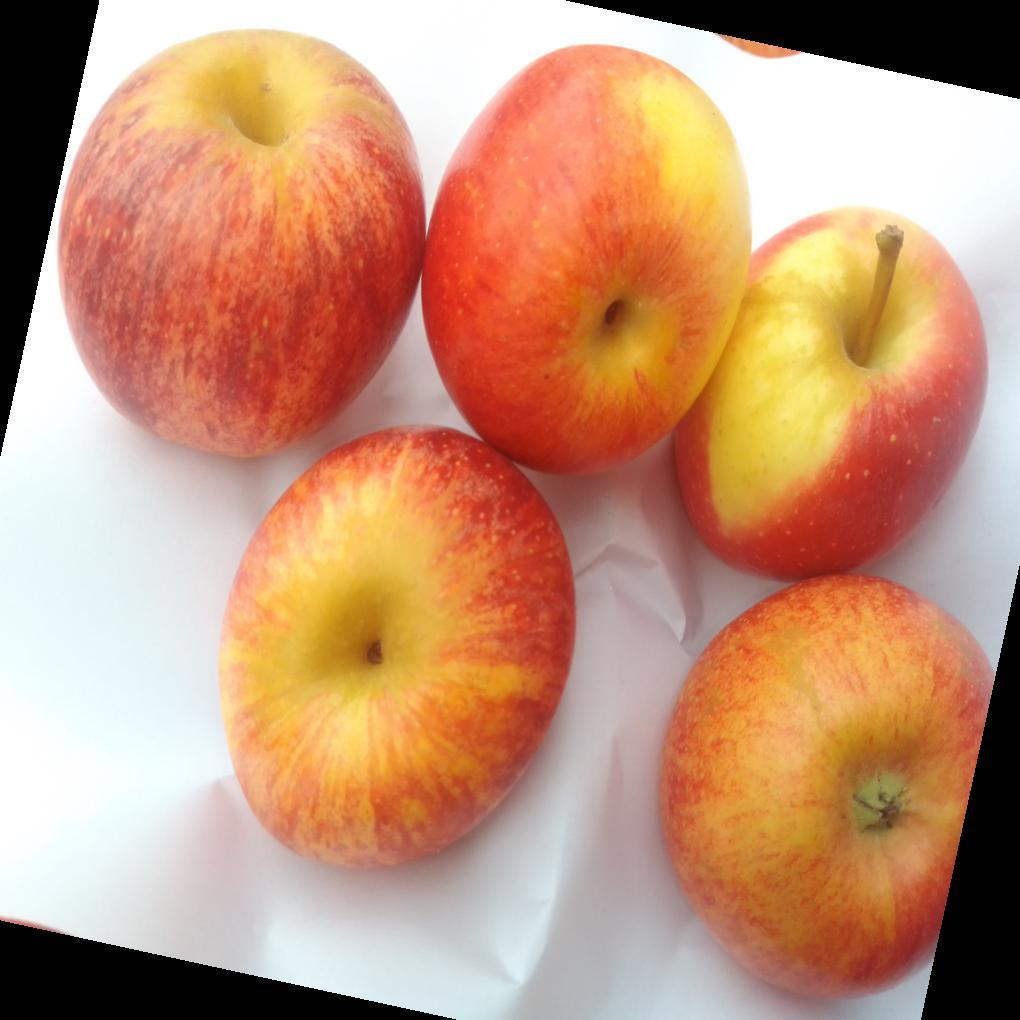FreshGuava: (0, 30, 940, 1020)
